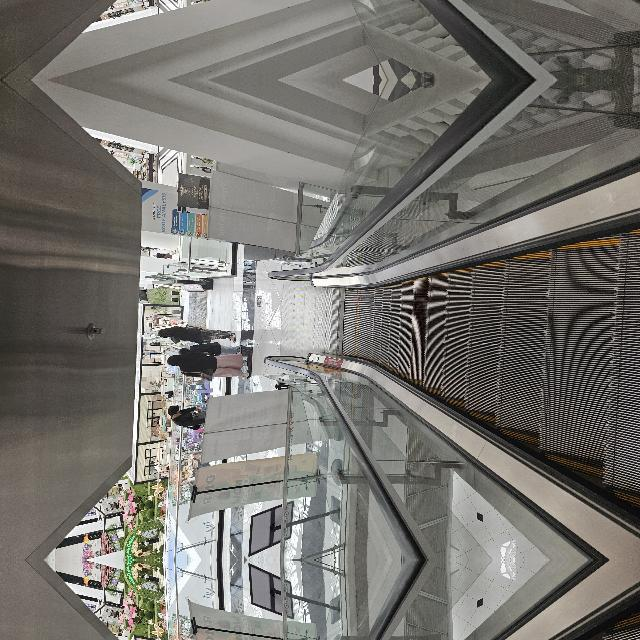person: (180, 247, 208, 329), (216, 238, 234, 316), (130, 248, 154, 286), (205, 258, 218, 322)
stair: (98, 399, 336, 640), (98, 401, 336, 640)
